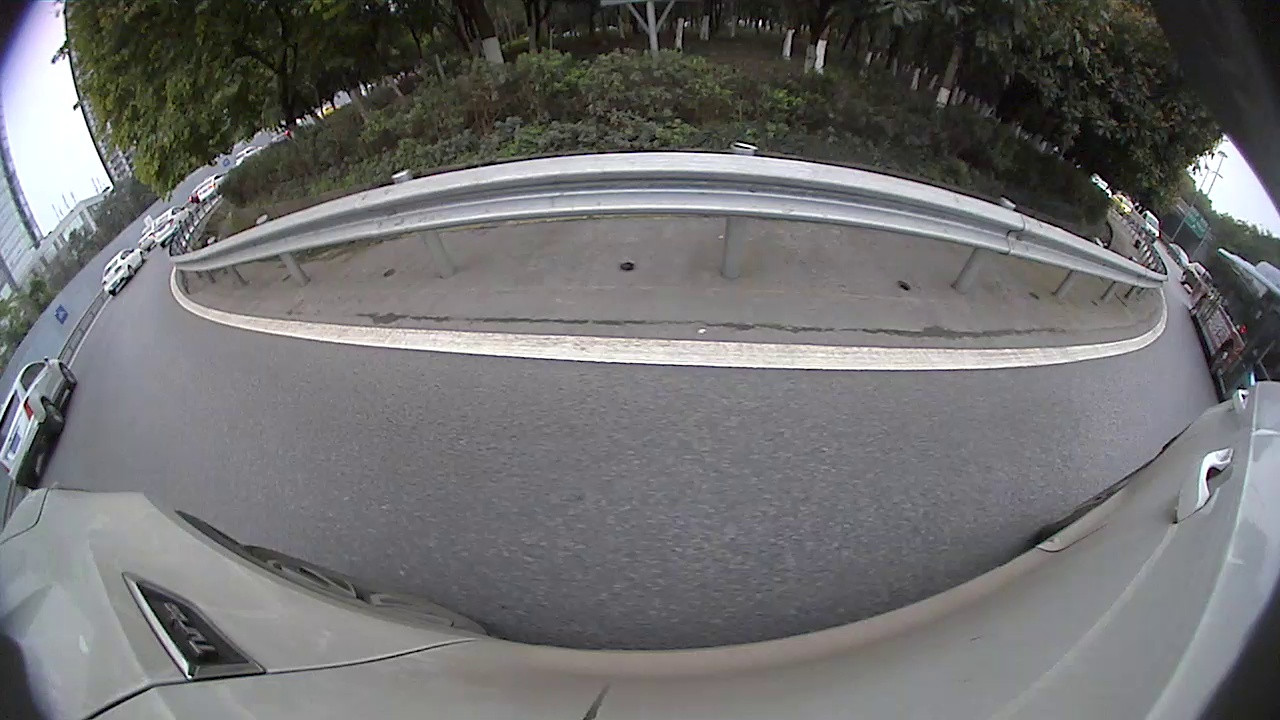bus: (1184, 240, 1279, 403)
car: (1, 354, 79, 494), (98, 244, 151, 301), (148, 201, 194, 248), (1127, 198, 1162, 246)
front: (1208, 342, 1234, 371), (59, 363, 80, 389)
rear: (40, 399, 68, 428), (1189, 295, 1207, 317)
